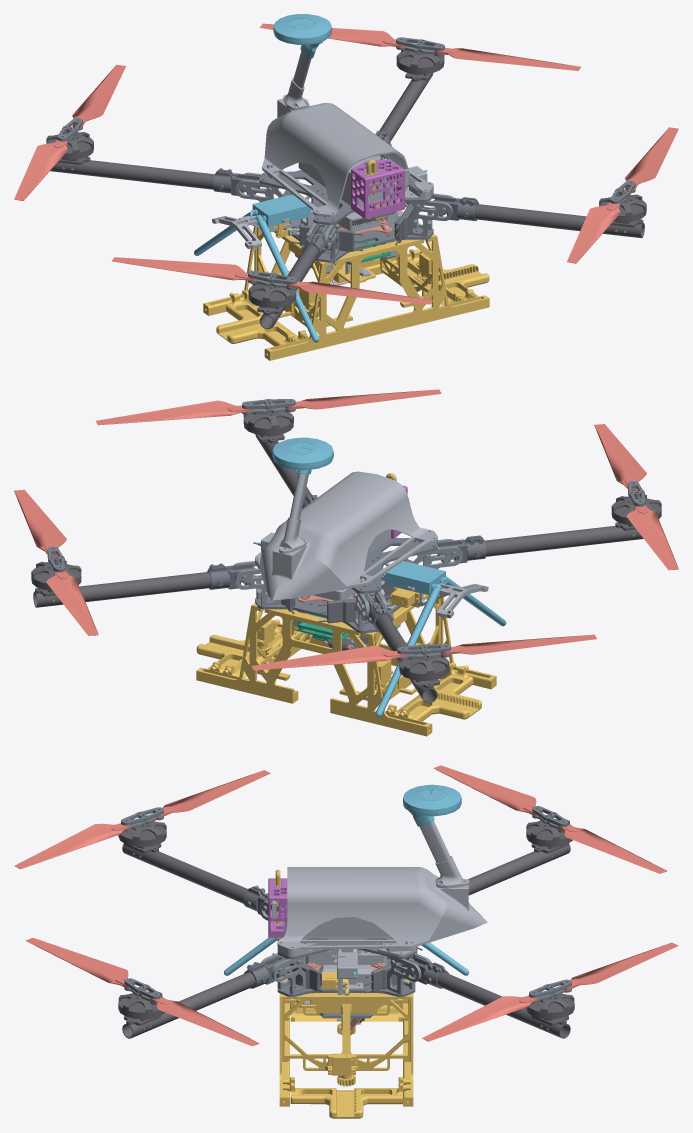
Rendered from drone.glb.
The picture shows the model from 3 angles, top to bottom: view 1: azimuth 30°, elevation 25°; view 2: azimuth 150°, elevation 25°; view 3: azimuth 270°, elevation 25°; orthographic projection. The views are drawn at different scales.
Parts seen in each view (by area): view 1: NAUO63, NAUO67, NAUO214 (×4), NAUO222 (×4), NAUO220 (×4), NAUO224 (×4), NAUO168, NAUO16, NAUO13, NAUO226, NAUO218 (×2), NAUO68 (+11 smaller); view 2: NAUO63, NAUO67, NAUO214 (×4), NAUO222 (×4), NAUO220 (×4), NAUO68, NAUO224 (×4), NAUO16, NAUO13, NAUO218 (×2), NAUO206, NAUO32 (+10 smaller); view 3: NAUO67, NAUO214 (×4), NAUO63, NAUO222 (×4), NAUO220 (×4), NAUO68, NAUO224 (×4), NAUO13, NAUO206, NAUO218 (×2), NAUO169, NAUO168 (+12 smaller).
Part boxes in pixels (x1,y1,x2,y2): NAUO63: (203,202,489,360); NAUO67: (262,107,433,217); NAUO214 (×4): (50,73,644,329); NAUO222 (×4): (72,47,620,281); NAUO220 (×4): (14,23,678,304); NAUO224 (×4): (46,44,646,309); NAUO168: (351,159,404,218); NAUO16: (216,290,308,346); NAUO13: (395,249,489,305); NAUO226: (259,170,433,224); NAUO218 (×2): (213,168,478,220); NAUO68: (262,98,338,169); NAUO63: (196,594,496,736); NAUO67: (258,471,437,584); NAUO214 (×4): (33,434,643,703); NAUO222 (×4): (14,389,678,670); NAUO220 (×4): (46,400,646,654); NAUO68: (256,518,369,600); NAUO224 (×4): (31,409,661,682); NAUO16: (385,662,481,721); NAUO13: (196,619,282,678); NAUO218 (×2): (207,535,486,589); NAUO206: (272,437,333,466); NAUO32: (385,561,445,595); NAUO67: (277,867,408,951); NAUO214 (×4): (122,843,570,1038); NAUO63: (279,979,413,1106); NAUO222 (×4): (25,770,666,1041); NAUO220 (×4): (14,765,678,1046); NAUO68: (409,867,487,948); NAUO224 (×4): (118,819,574,1021); NAUO13: (283,1077,410,1118); NAUO206: (402,785,461,812); NAUO218 (×2): (244,956,448,988); NAUO169: (285,905,390,936); NAUO168: (268,878,287,937).
Size of the model in its own units: 0.7644 by 0.3258 by 0.7644.
